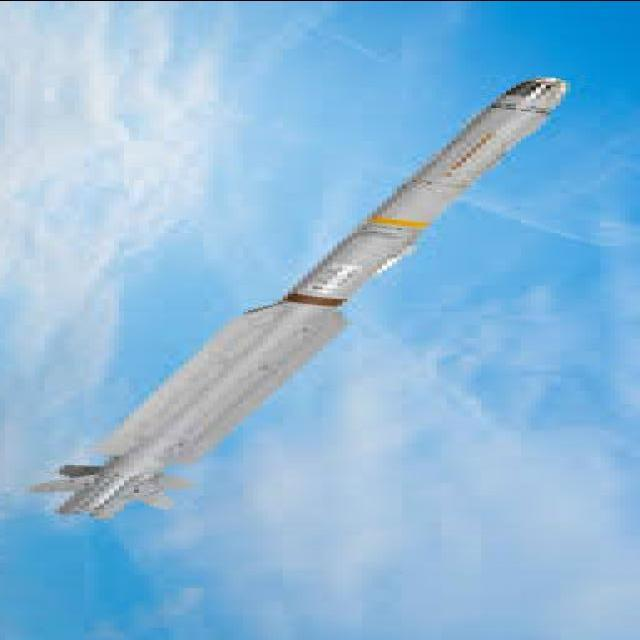missile: (7, 69, 590, 522)
